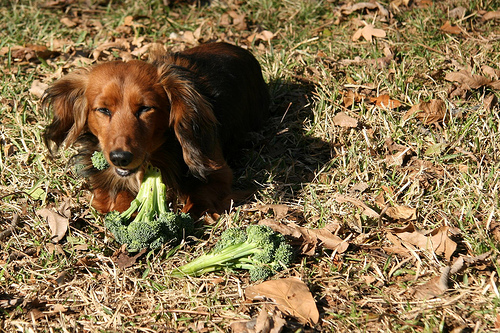broccoli: (181, 225, 289, 288), (102, 167, 173, 250), (89, 148, 106, 172)
